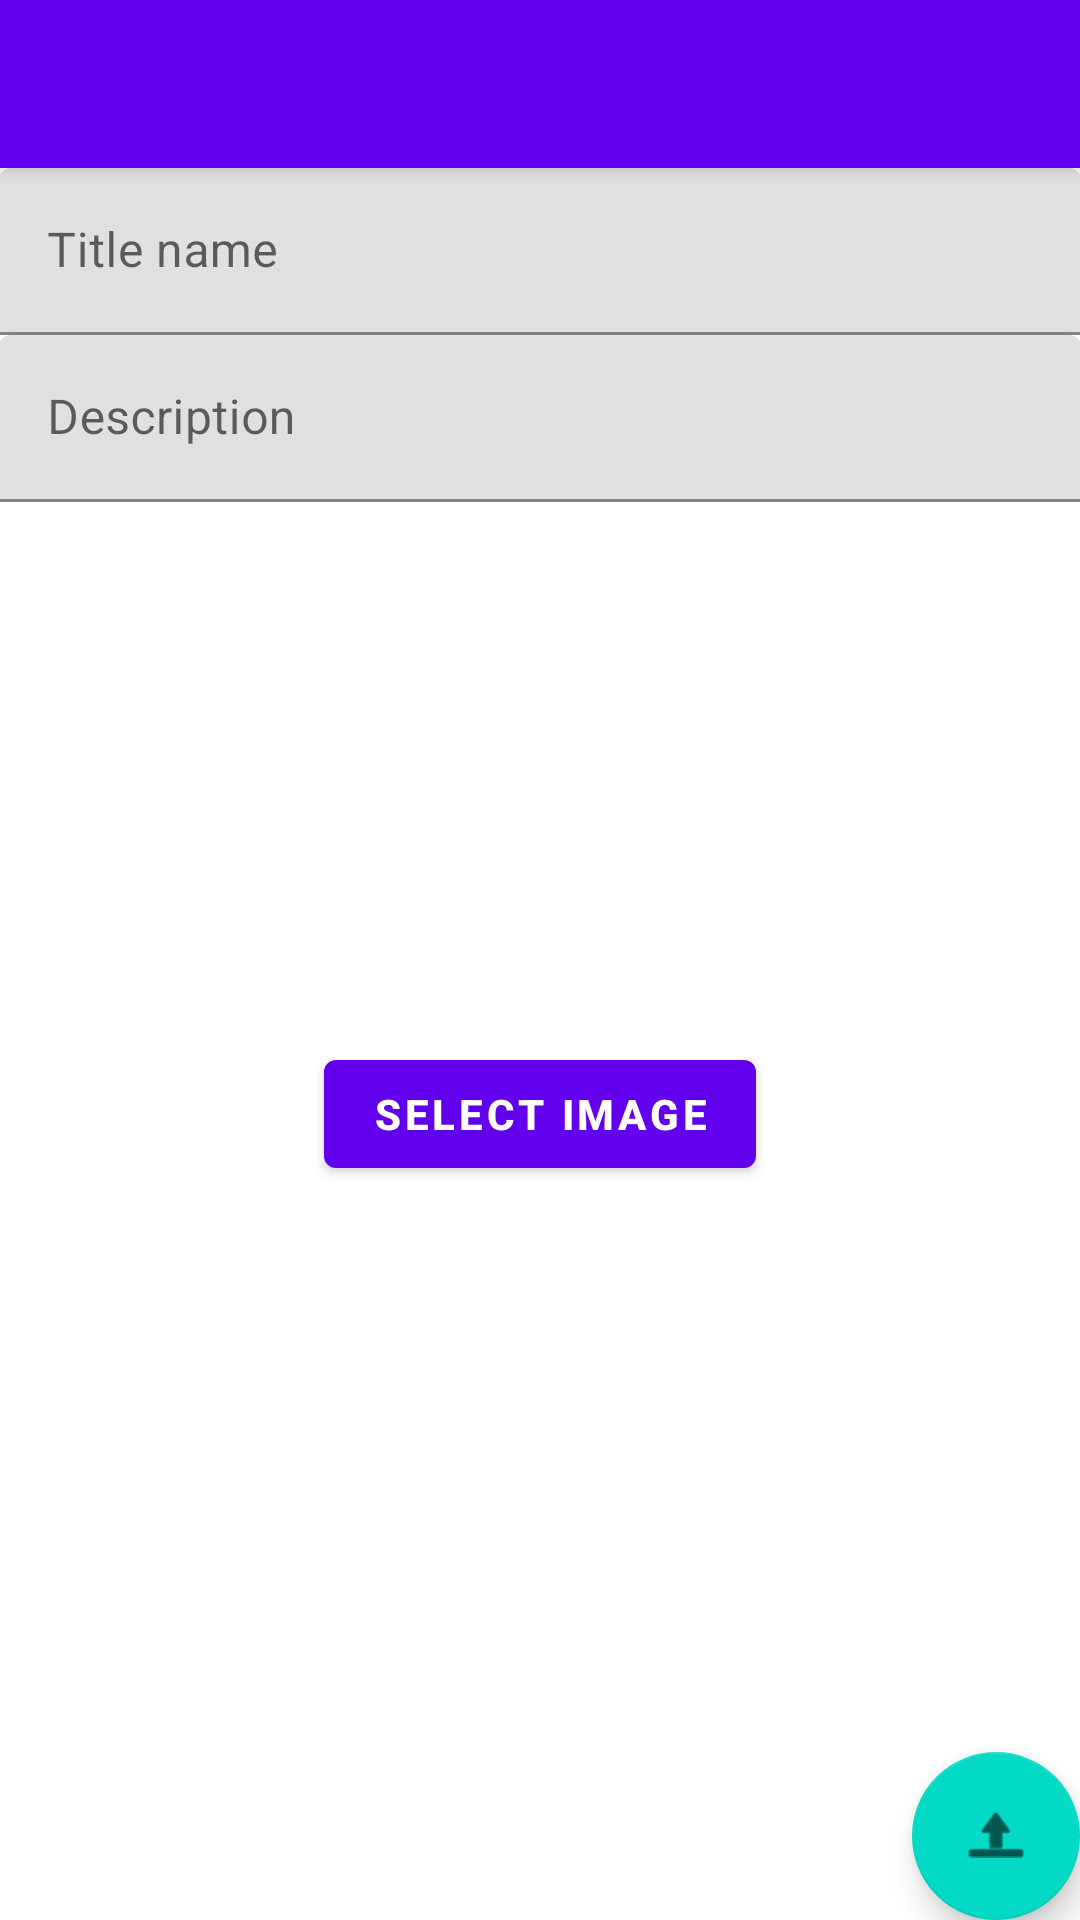

Named icons in this screenshot (1080 x 1920) and their bounding boxes, (x1, y1, x2, y2):
upload: (912, 1752, 1080, 1920)
